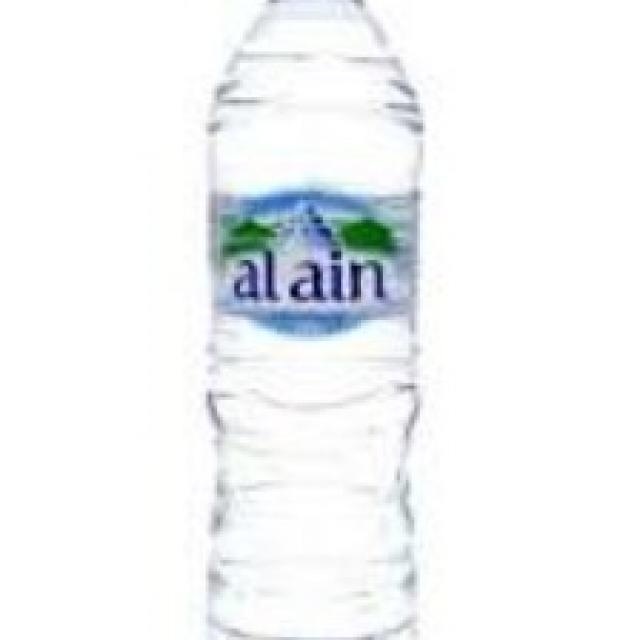plastic_bottle: (197, 1, 433, 640)
